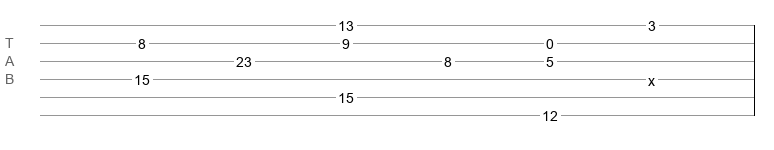0: (546, 36, 554, 46)
12: (542, 108, 558, 118)
13: (338, 18, 354, 28)
15: (134, 72, 150, 82), (338, 90, 354, 100)
23: (236, 54, 252, 64)
3: (648, 18, 656, 28)
5: (546, 54, 554, 64)
8: (138, 36, 146, 46), (444, 54, 452, 64)
9: (342, 36, 350, 46)
x: (648, 73, 655, 81)
